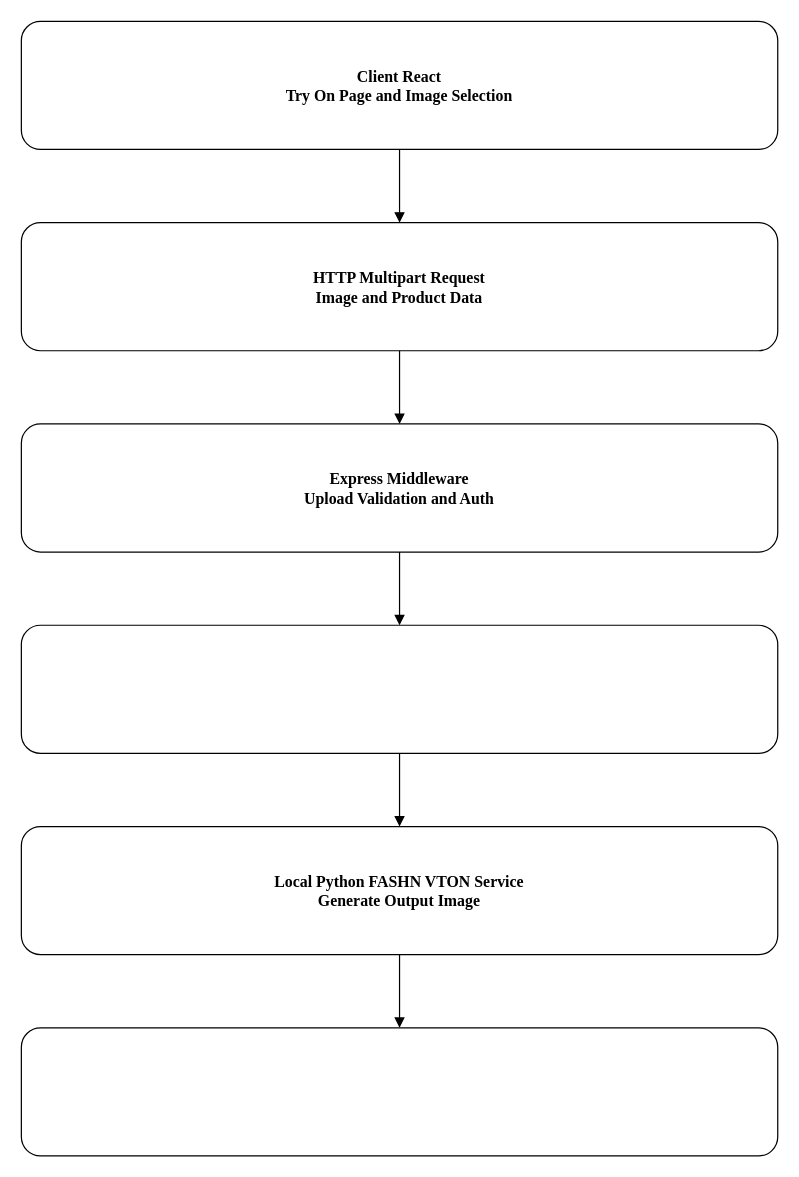
This 799x1177 diagram has some shape labels left out. Each missing label, with the box of its shape:
SQLite Try On Results Table Saved Output and Status: (20, 1027, 778, 1156)
VTON Controller Product and Asset Validation: (20, 624, 778, 753)
